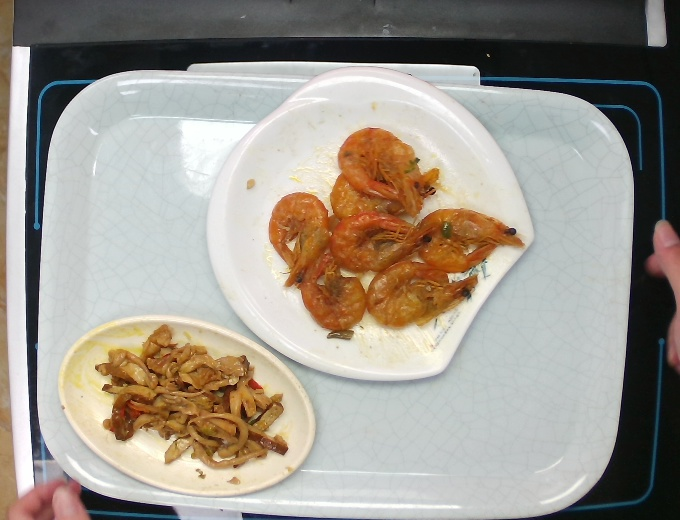JYsf-Mian_Pan: (203, 64, 538, 383)
JYsf-Tuo_Yuan_Wan: (56, 313, 319, 500)
